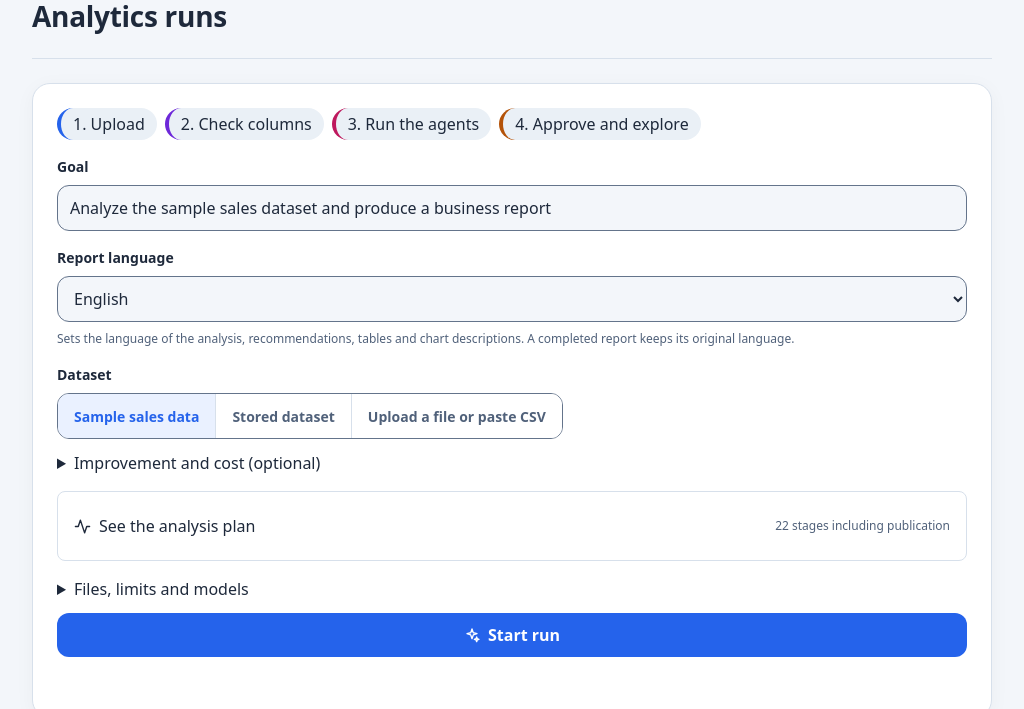
recoverable analysis navigation › retains known runs after a refresh fails and never labels them current
Step 1. Click the button "Start run" → (512, 635), box [57, 613, 967, 657]
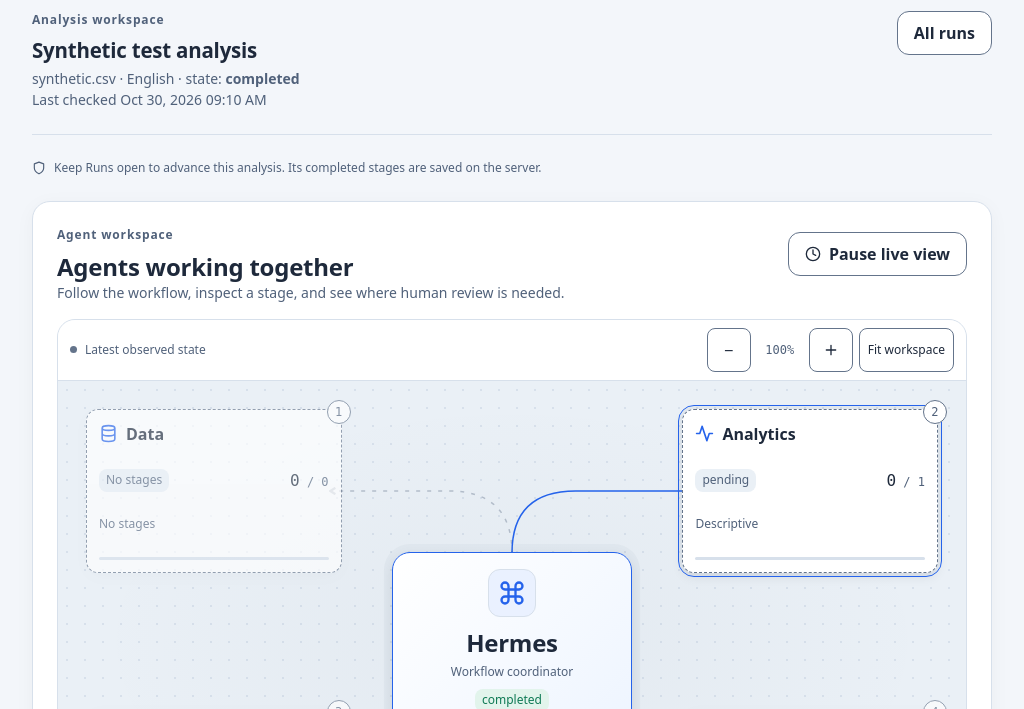
Step 2. Click the button "All runs" → (944, 33), box [897, 11, 992, 55]
(page scrolled)
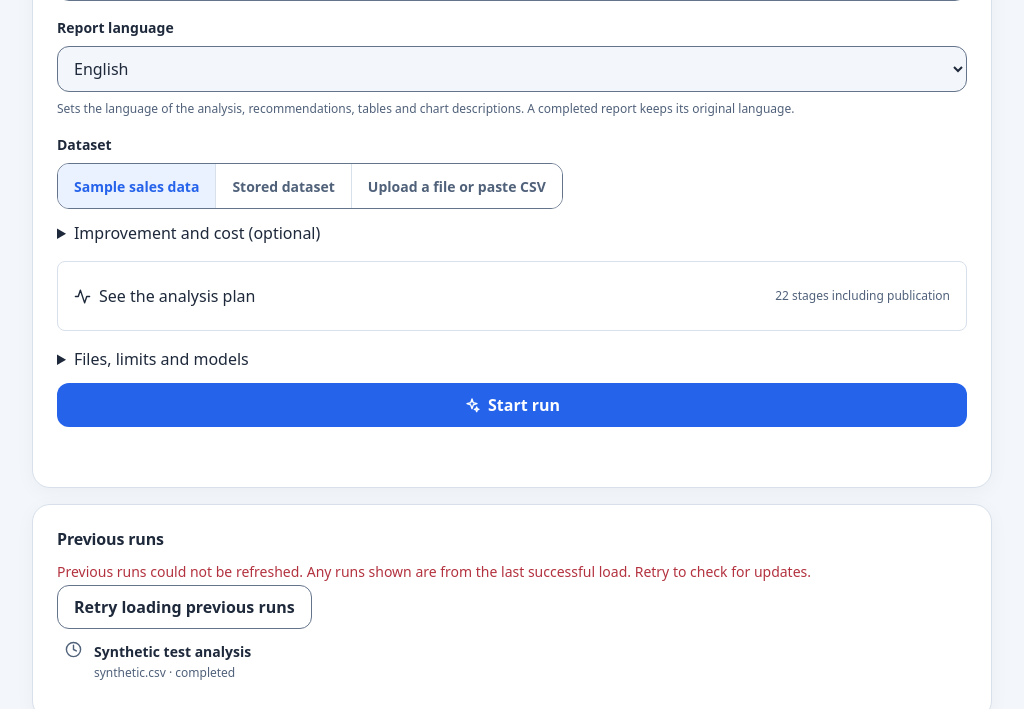
Expected: the 2nd message shows "last successful load", [57, 562, 811, 581]
Expected: the element "Previous runs" shows "Synthetic test analysis", [57, 629, 967, 694]
